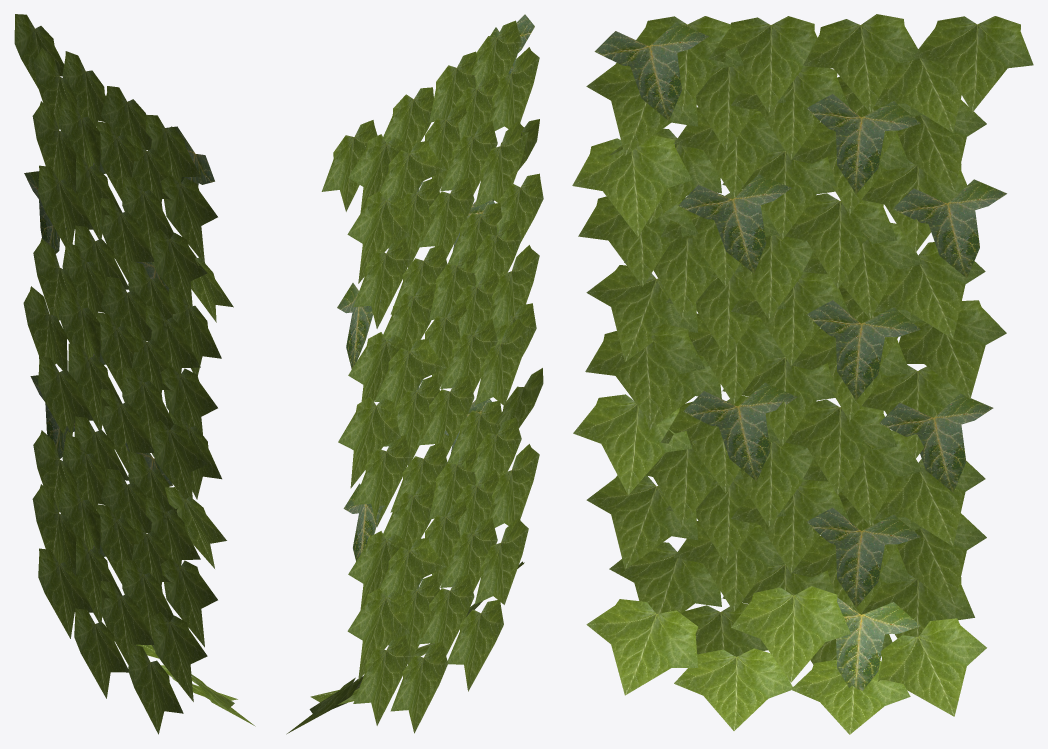
Rendered from Vines_B.fbx.
3 renders of one model, left to right at view 1: azimuth 30°, elevation 25°; view 2: azimuth 150°, elevation 25°; view 3: azimuth 270°, elevation 25°, orthographic. The views are drawn at different scales.
Visible parts, largest first — view 1: VInes_B; view 2: VInes_B; view 3: VInes_B.
Boxes of the visible parts, x1,y1,x2,y2 form: VInes_B: (14, 14, 255, 734); VInes_B: (286, 14, 543, 734); VInes_B: (572, 14, 1033, 734).
Bounding box in the file's own units: 59.66 × 317 × 194.
